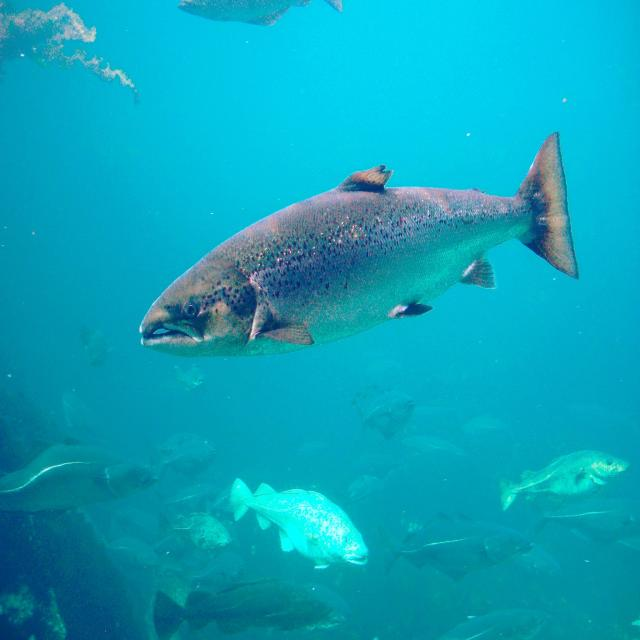grouper: (127, 117, 607, 374)
